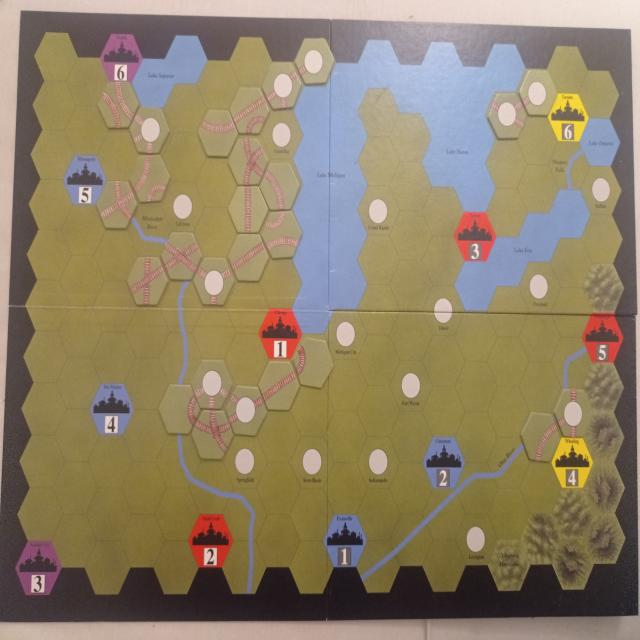10_0: (226, 386, 267, 436)
10_1: (554, 389, 593, 437)
11_1: (194, 257, 233, 307)
12_0: (132, 106, 169, 154)
12_1: (192, 359, 232, 408)
13_1: (519, 69, 558, 117), (296, 38, 334, 85)
14_0: (487, 92, 526, 140)
14_4: (262, 61, 300, 110)
15_5: (263, 211, 301, 259)
1_2: (158, 384, 200, 434)
1_5: (294, 338, 332, 388)
24_0: (133, 59, 173, 109)
2_1: (521, 412, 560, 462)
2_3: (198, 111, 237, 156)
2_5: (260, 163, 300, 209)
3_0: (259, 361, 299, 411), (229, 233, 268, 282)
3_1: (228, 186, 266, 232)
4_1: (230, 86, 268, 134)
5_1: (130, 156, 170, 203)
6_2: (99, 81, 138, 128)
7_2: (228, 138, 266, 184)
7_3: (193, 410, 233, 460)
8_3: (97, 180, 135, 228)
9_0: (162, 232, 200, 281)
9_1: (127, 256, 166, 306)
